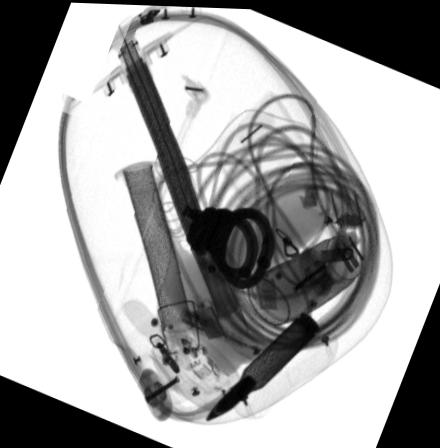Bullet: (203, 309, 322, 420)
HandCuffs: (183, 202, 273, 285)
